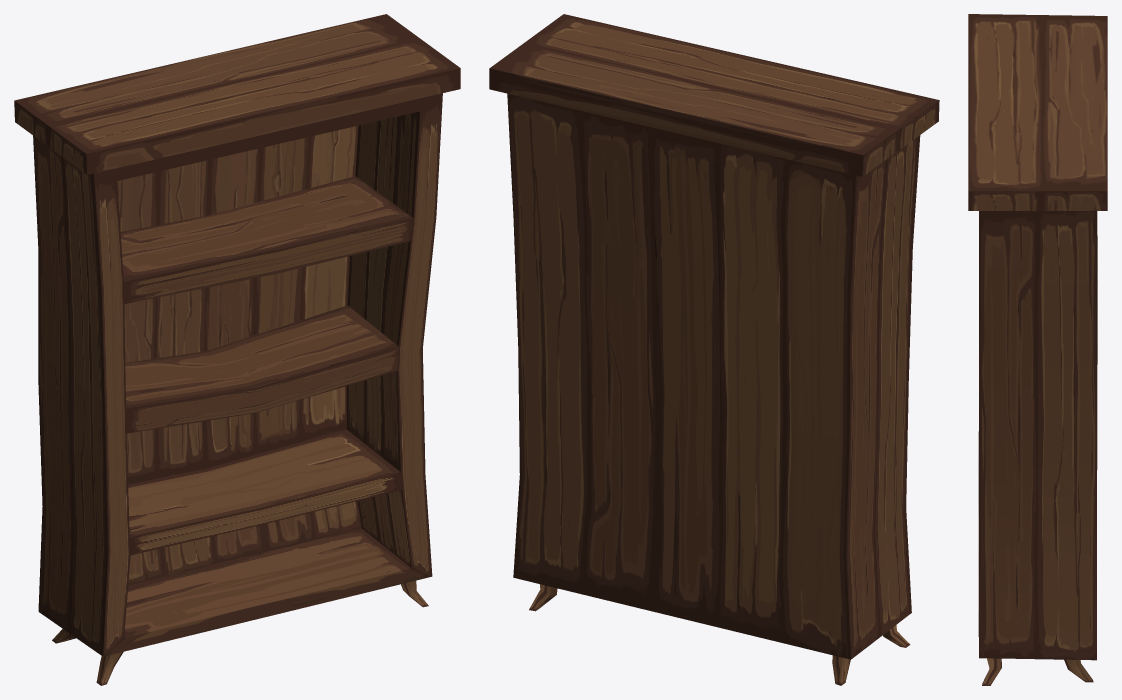
The model's file is SM_PROP_bookshelf_interior_01.fbx.
3 views of the same model, side by side, from view 1: azimuth 30°, elevation 25°; view 2: azimuth 150°, elevation 25°; view 3: azimuth 270°, elevation 25° (orthographic). The views are drawn at different scales.
Visible parts, largest first — view 1: SM_PROP_bookshelf_interior_01; view 2: SM_PROP_bookshelf_interior_01; view 3: SM_PROP_bookshelf_interior_01.
Boxes of the visible parts, left/top/right/bottom form: SM_PROP_bookshelf_interior_01: left=14, top=14, right=460, bottom=685; SM_PROP_bookshelf_interior_01: left=489, top=14, right=939, bottom=685; SM_PROP_bookshelf_interior_01: left=968, top=14, right=1107, bottom=685.
Size of the model in its own units: 153 by 213 by 52.54.
